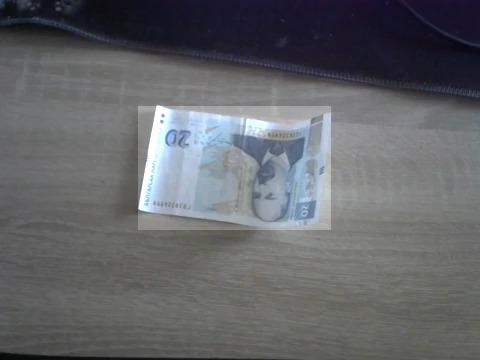20leva: (138, 106, 331, 230)
